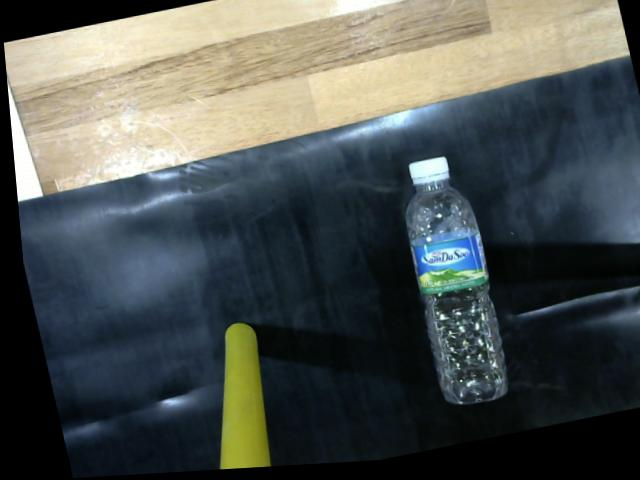bottle: (388, 149, 519, 419)
